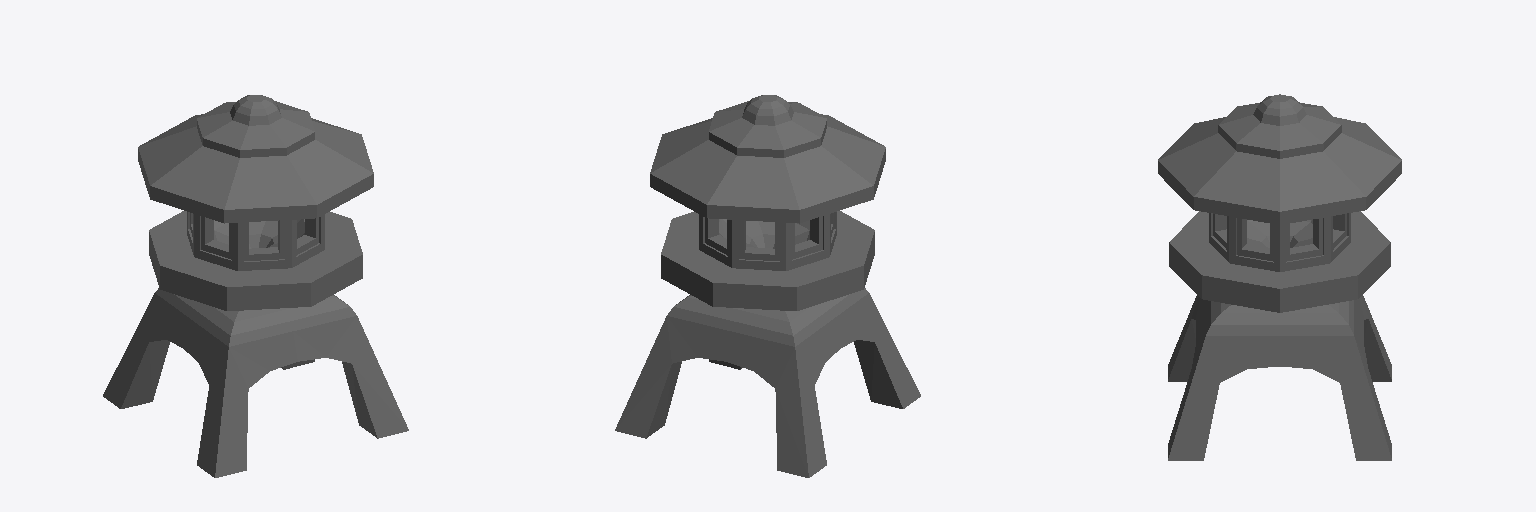
Rendered from lantern.obj.
3 renders of one model, left to right at view 1: azimuth 30°, elevation 25°; view 2: azimuth 150°, elevation 25°; view 3: azimuth 270°, elevation 25°, orthographic.
Parts seen in each view (by area): view 1: StoneLantern_Circle.001; view 2: StoneLantern_Circle.001; view 3: StoneLantern_Circle.001.
Boxes of the visible parts, x1=… form: StoneLantern_Circle.001: x1=103, y1=95, x2=408, y2=477; StoneLantern_Circle.001: x1=615, y1=95, x2=920, y2=477; StoneLantern_Circle.001: x1=1158, y1=94, x2=1401, y2=460.
Bounding box in the file's own units: 1.98 × 2.82 × 1.98.